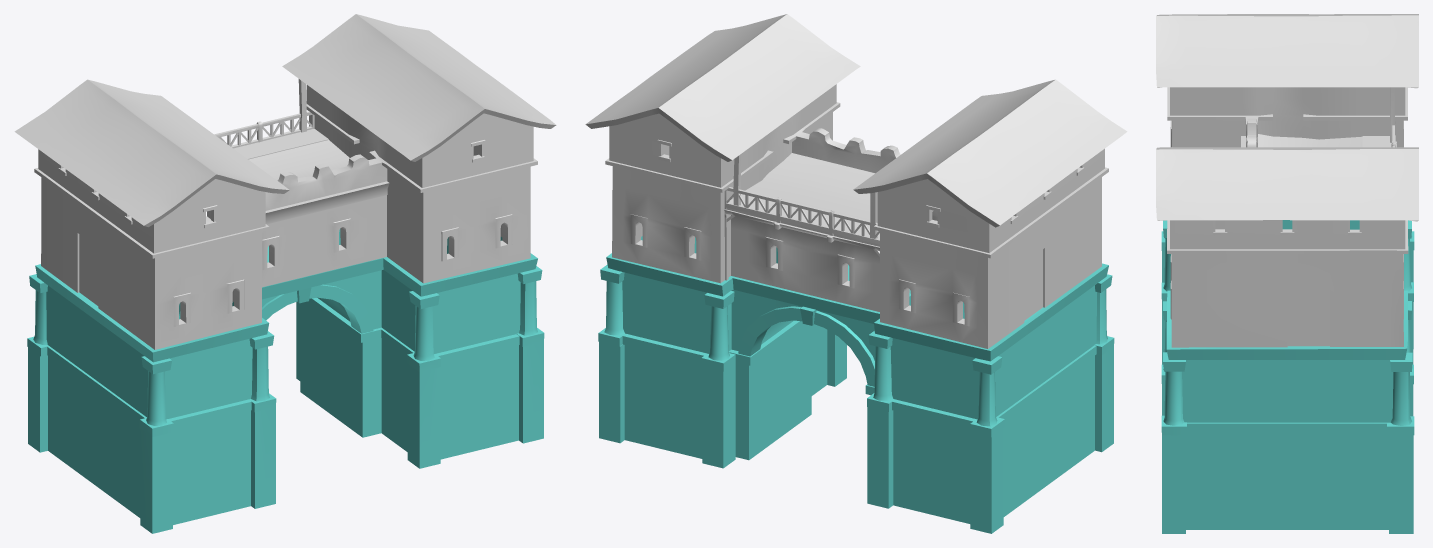
Rendered from WestGate_LowPoly.fbx.
3 renders of one model, left to right at view 1: azimuth 30°, elevation 25°; view 2: azimuth 150°, elevation 25°; view 3: azimuth 270°, elevation 25°, orthographic.
Parts seen in each view (by area): view 1: WestGate_LowPoly_UV_2, WestGate_LowPoly_UV_1; view 2: WestGate_LowPoly_UV_2, WestGate_LowPoly_UV_1; view 3: WestGate_LowPoly_UV_2, WestGate_LowPoly_UV_1.
Boxes of the visible parts, x1,y1,x2,y2 form: WestGate_LowPoly_UV_2: (14,14,556,349); WestGate_LowPoly_UV_1: (27,229,544,533); WestGate_LowPoly_UV_2: (585,14,1127,348); WestGate_LowPoly_UV_1: (598,236,1114,533); WestGate_LowPoly_UV_2: (1156,14,1418,347); WestGate_LowPoly_UV_1: (1161,220,1414,533).
Bounding box in the file's own units: 23.2 × 18.57 × 12.5.
